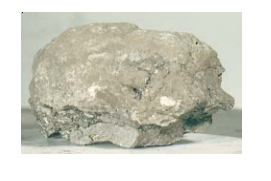Breccia: (20, 15, 239, 152)
